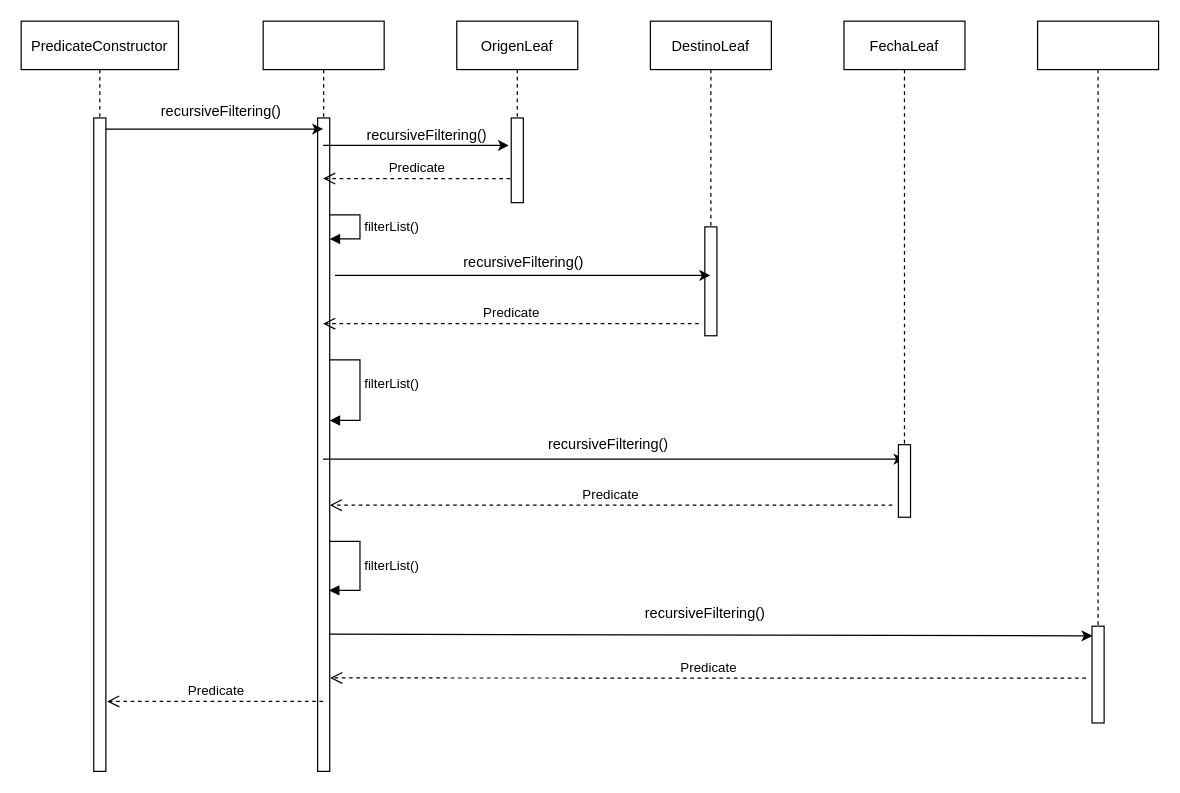
Image size: 1180x793. Some labels were removed from this diagram. Each missing label, with the box of its shape:
Gestor: (262, 20, 384, 771)
PrecioLeaf: (1036, 20, 1159, 638)
